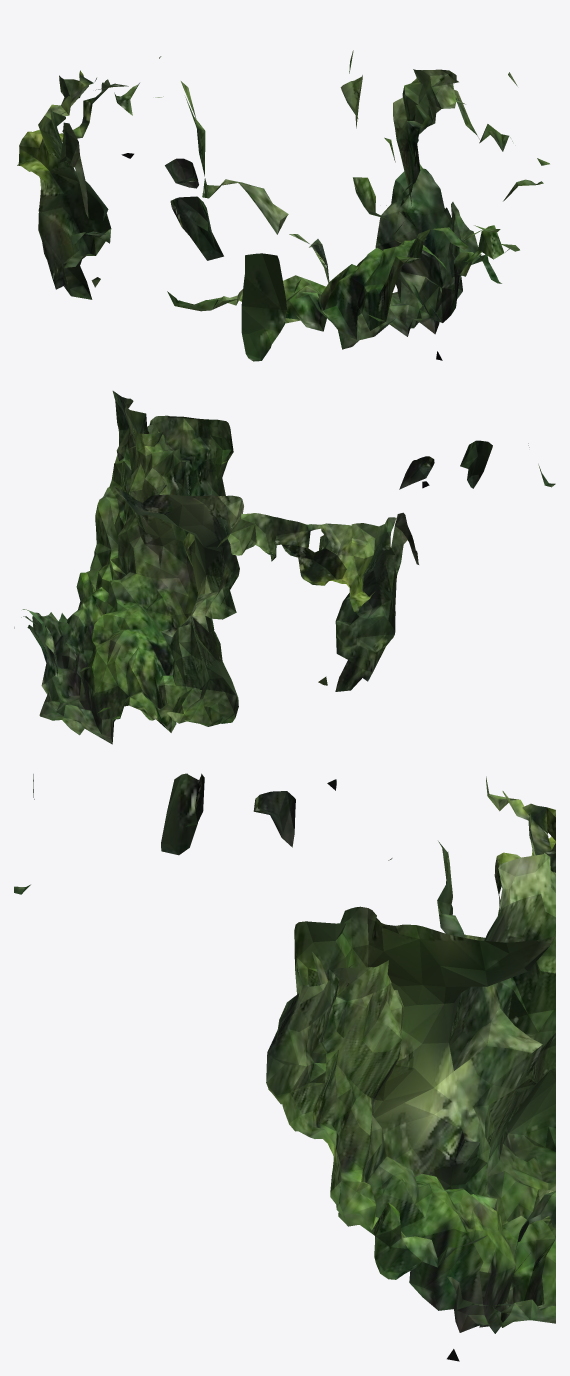
The picture shows the model from 3 angles, top to bottom: view 1: azimuth 30°, elevation 25°; view 2: azimuth 150°, elevation 25°; view 3: azimuth 270°, elevation 25°; orthographic projection. The views are drawn at different scales.
Size of the model in its own units: 26.11 by 20.12 by 26.11.
Materials: 3 (3 with a texture image).
